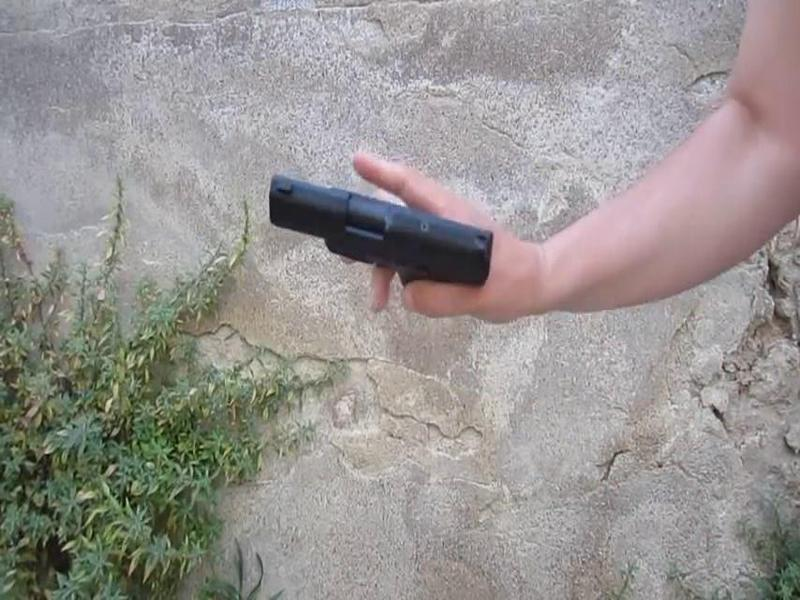Pistola: (246, 160, 512, 334)
